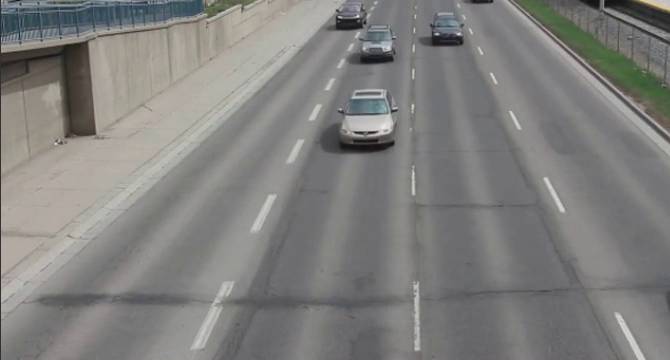car: (339, 88, 404, 151), (361, 23, 399, 63), (430, 11, 464, 45), (334, 2, 364, 29)
